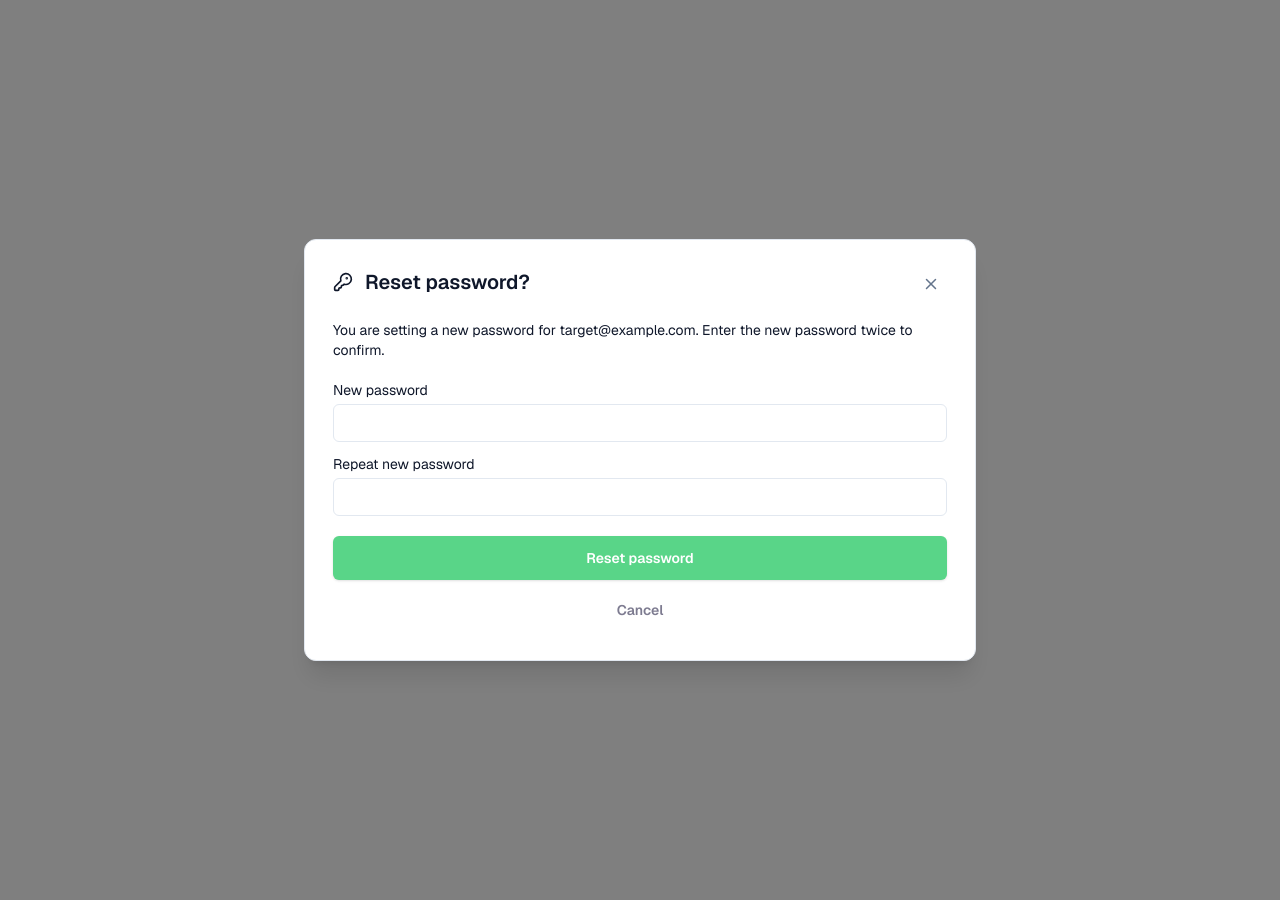
Test: ResetPasswordDialog › shows a too-short error when new password is under 12 chars
Type "too-short" into the password field labelled "New password" at (640, 423), box [333,404,947,442]
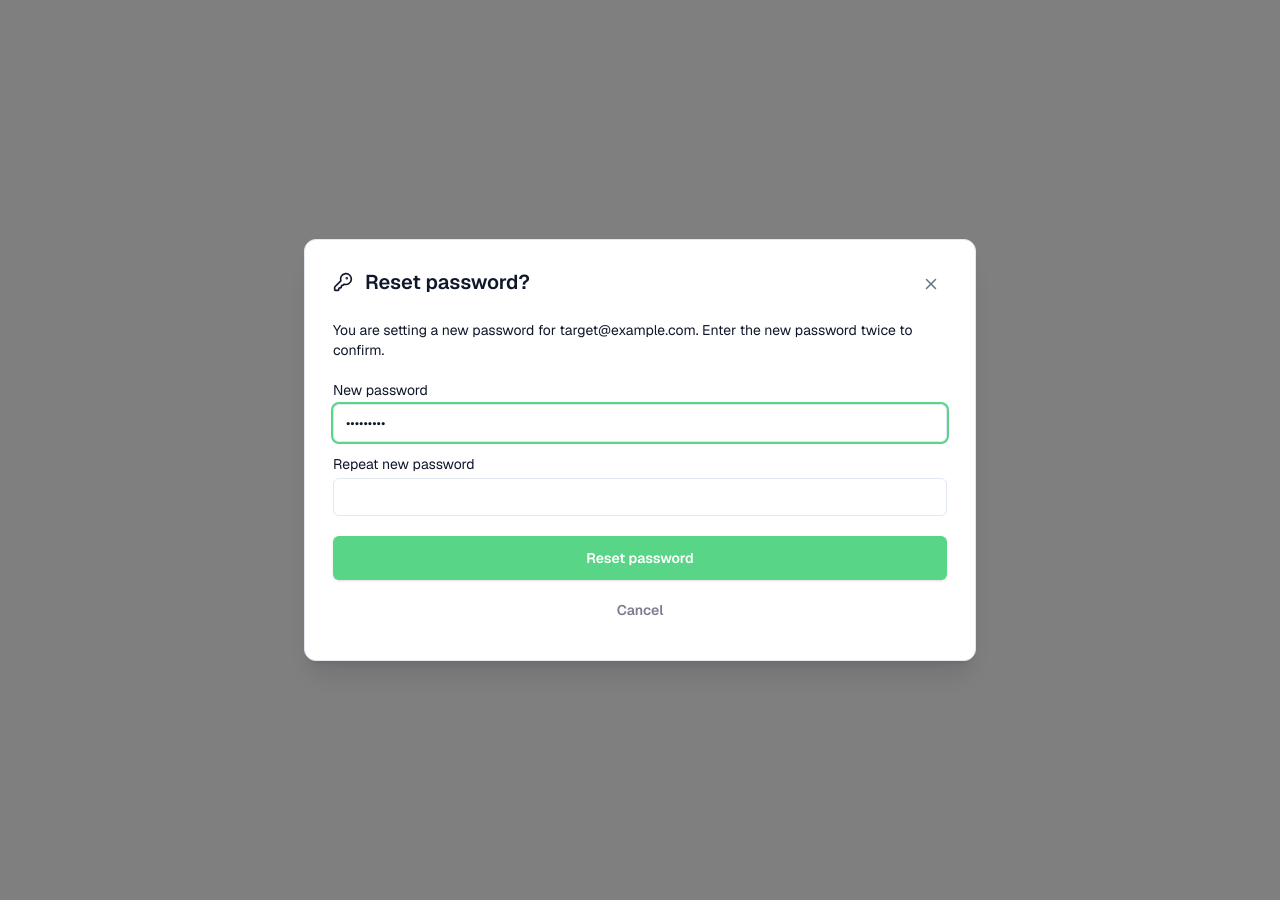
Type "too-short" into the password field labelled "Repeat new password" at (640, 497), box [333,478,947,516]
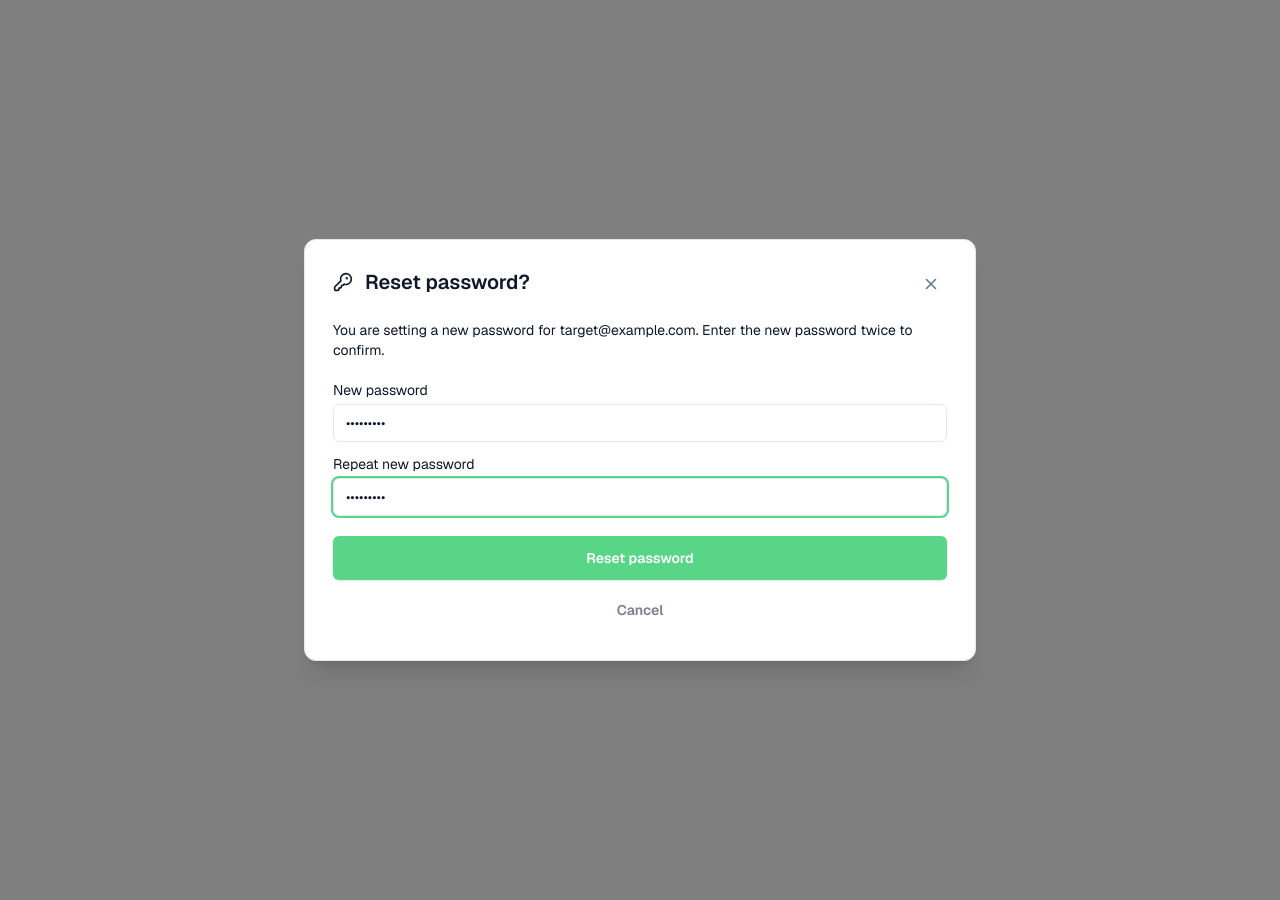
Click the button "Reset password" at (640, 558), box [333,536,947,580]
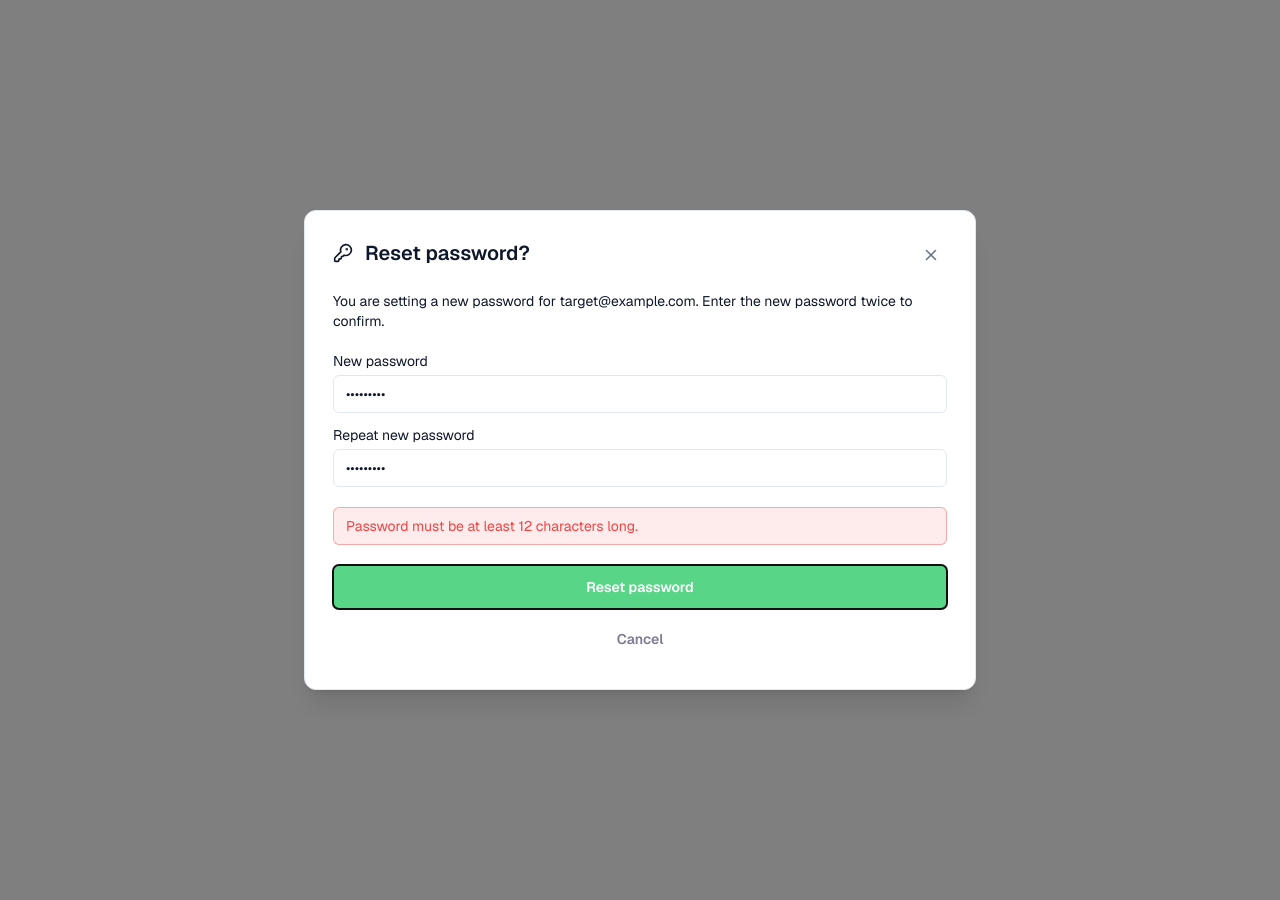
Now the message shows "at least 12", box [346,517,638,535]
